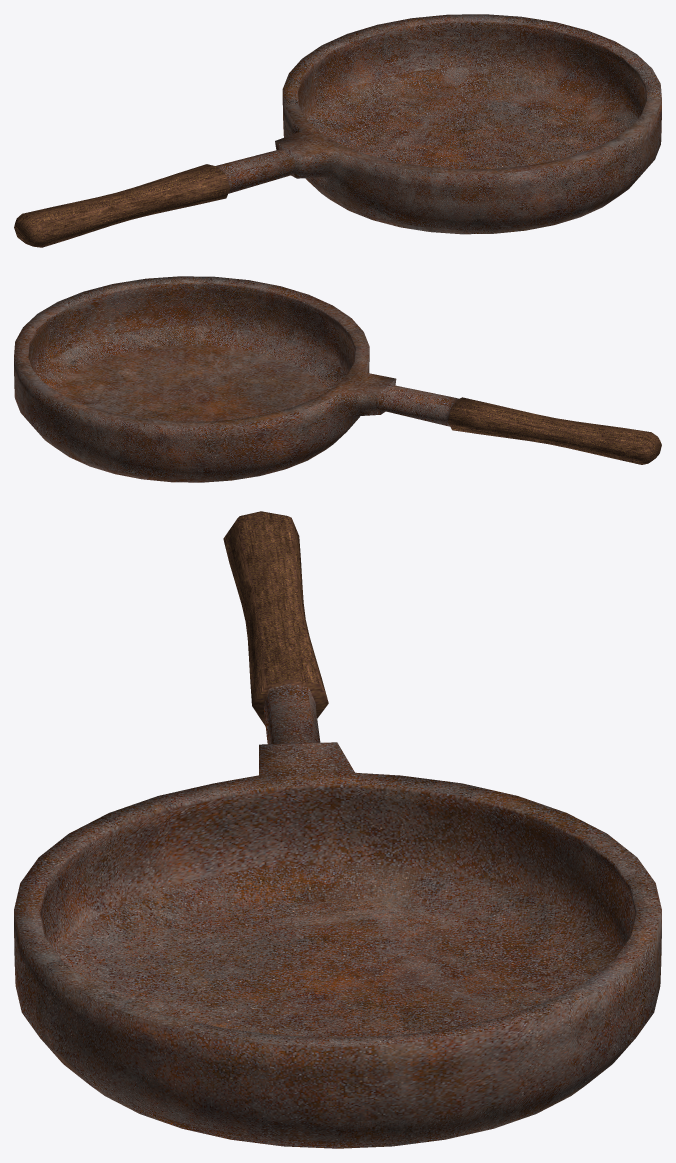
Rendered from panela.fbx.
3 views of the same model, one above another, from view 1: azimuth 30°, elevation 25°; view 2: azimuth 150°, elevation 25°; view 3: azimuth 270°, elevation 25° (orthographic). The views are drawn at different scales.
Parts seen in each view (by area): view 1: panela; view 2: panela; view 3: panela.
Boxes of the visible parts, x1,y1,x2,y2 form: panela: [14, 14, 661, 247]; panela: [14, 276, 661, 482]; panela: [14, 511, 661, 1148].
Size of the model in its own units: 201 by 47.17 by 389.
Materials: 2 (2 with a texture image).
